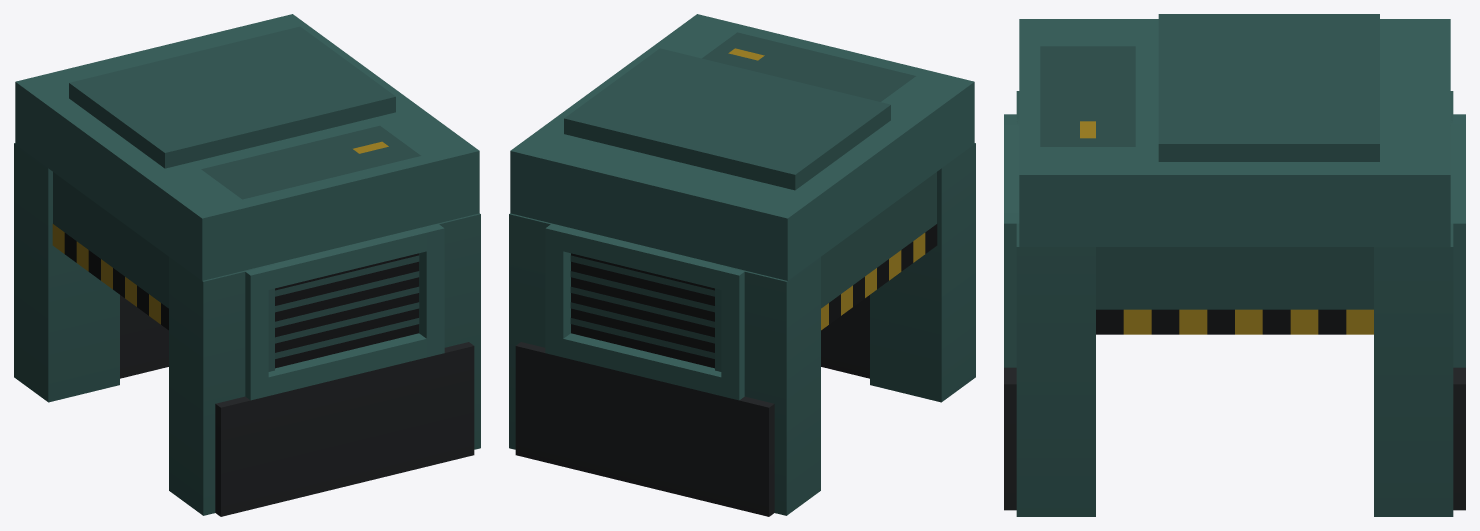
The model's file is machine.window.teal.glb.
3 renders of one model, left to right at view 1: azimuth 30°, elevation 25°; view 2: azimuth 150°, elevation 25°; view 3: azimuth 270°, elevation 25°, orthographic. The views are drawn at different scales.
Visible parts, largest first — view 1: machine_window_teal; view 2: machine_window_teal; view 3: machine_window_teal.
Part boxes in pixels (x1=…): machine_window_teal: x1=14, y1=14, x2=480, y2=516; machine_window_teal: x1=509, y1=14, x2=975, y2=516; machine_window_teal: x1=1004, y1=14, x2=1465, y2=516.
Size of what is drawn, in the model's own units: 1.86 by 2 by 2.33.
